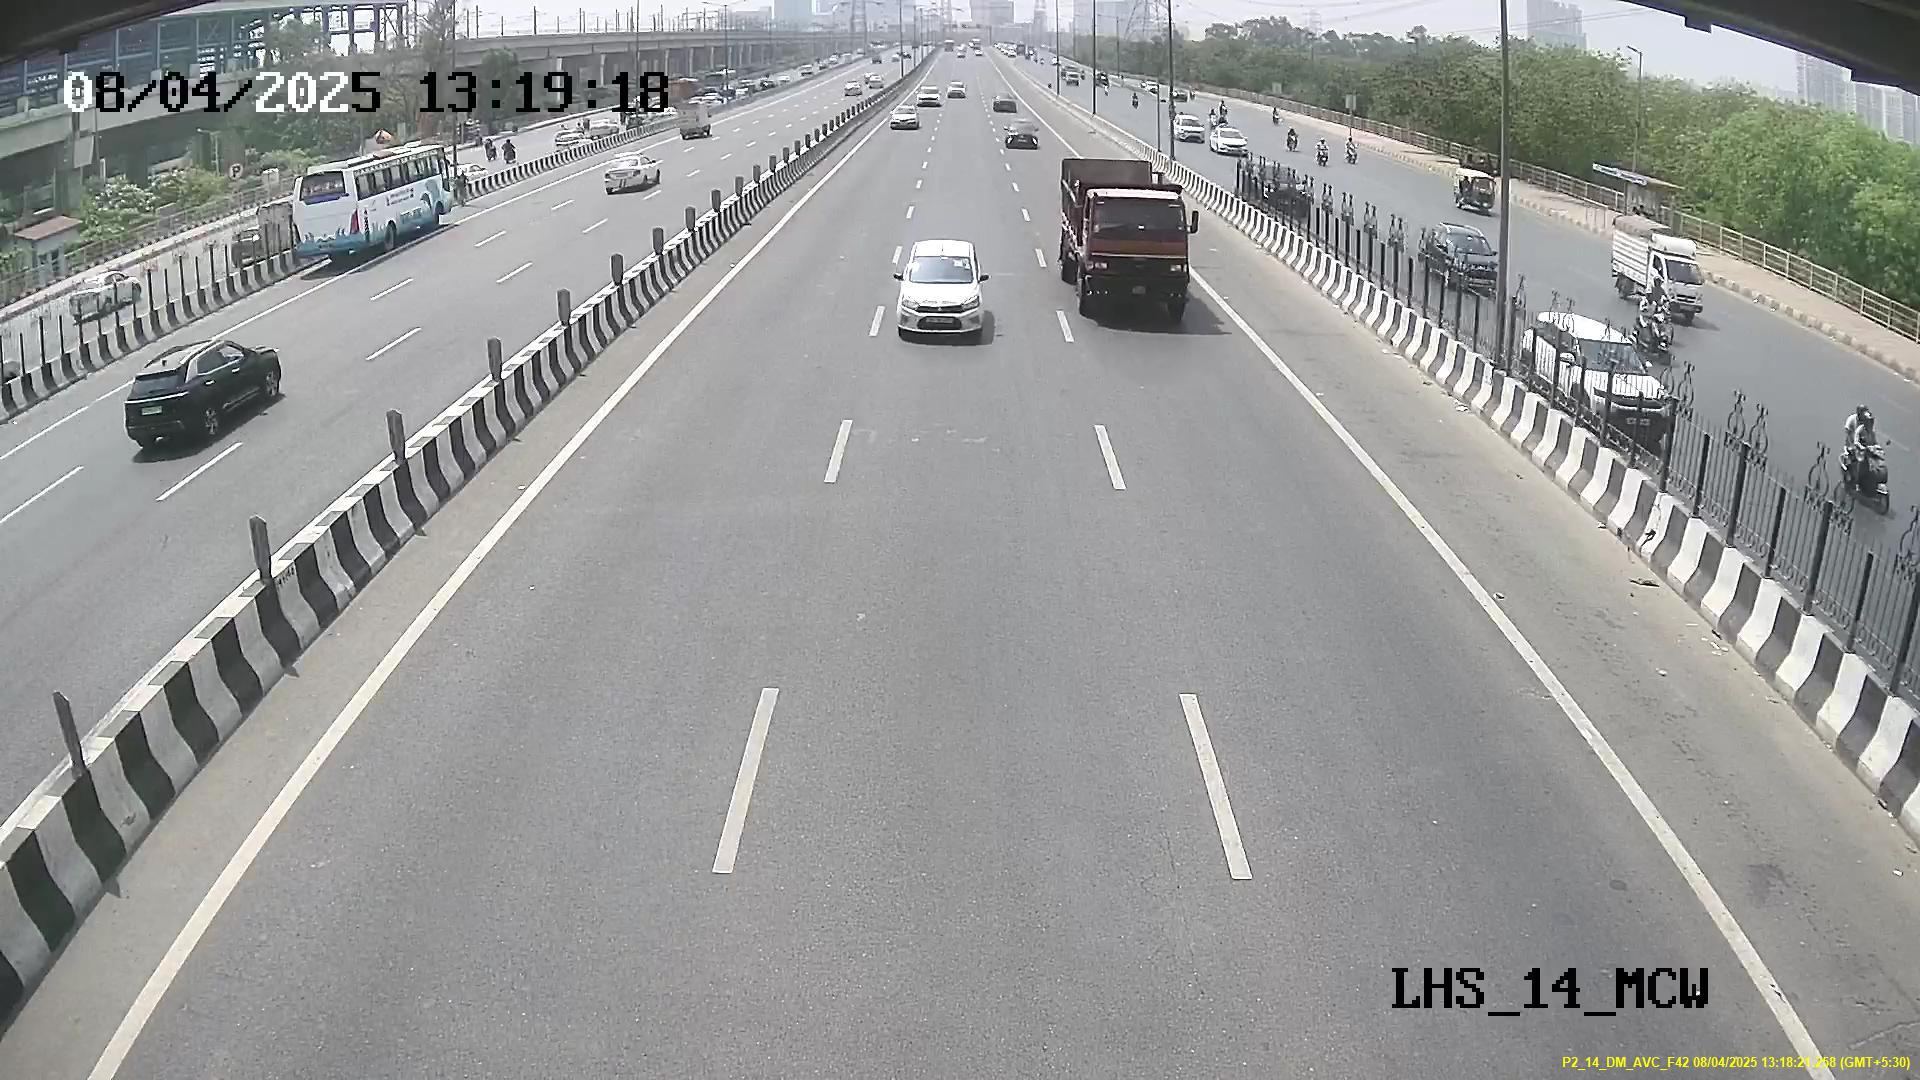car: (894, 243, 988, 344)
lcv: (1079, 187, 1196, 322)
